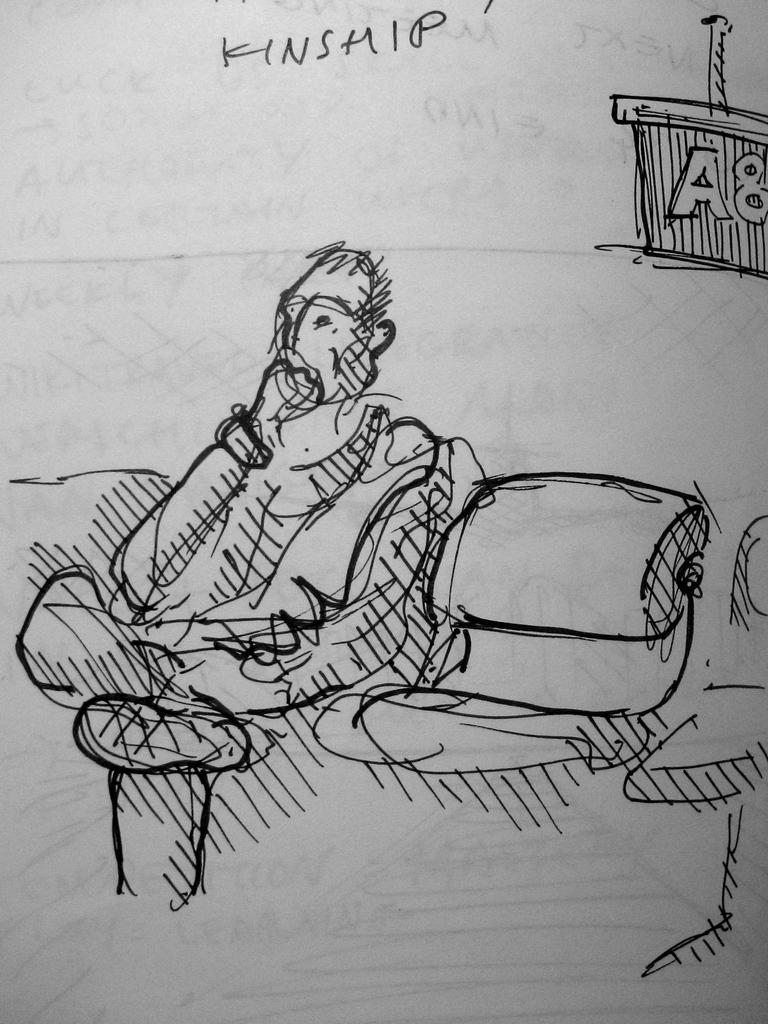Chair: (302, 473, 715, 823)
